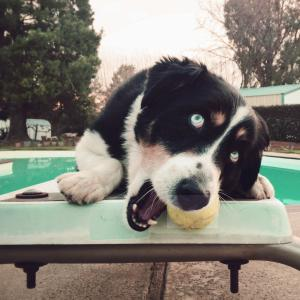TennisBall: (168, 196, 220, 230)
